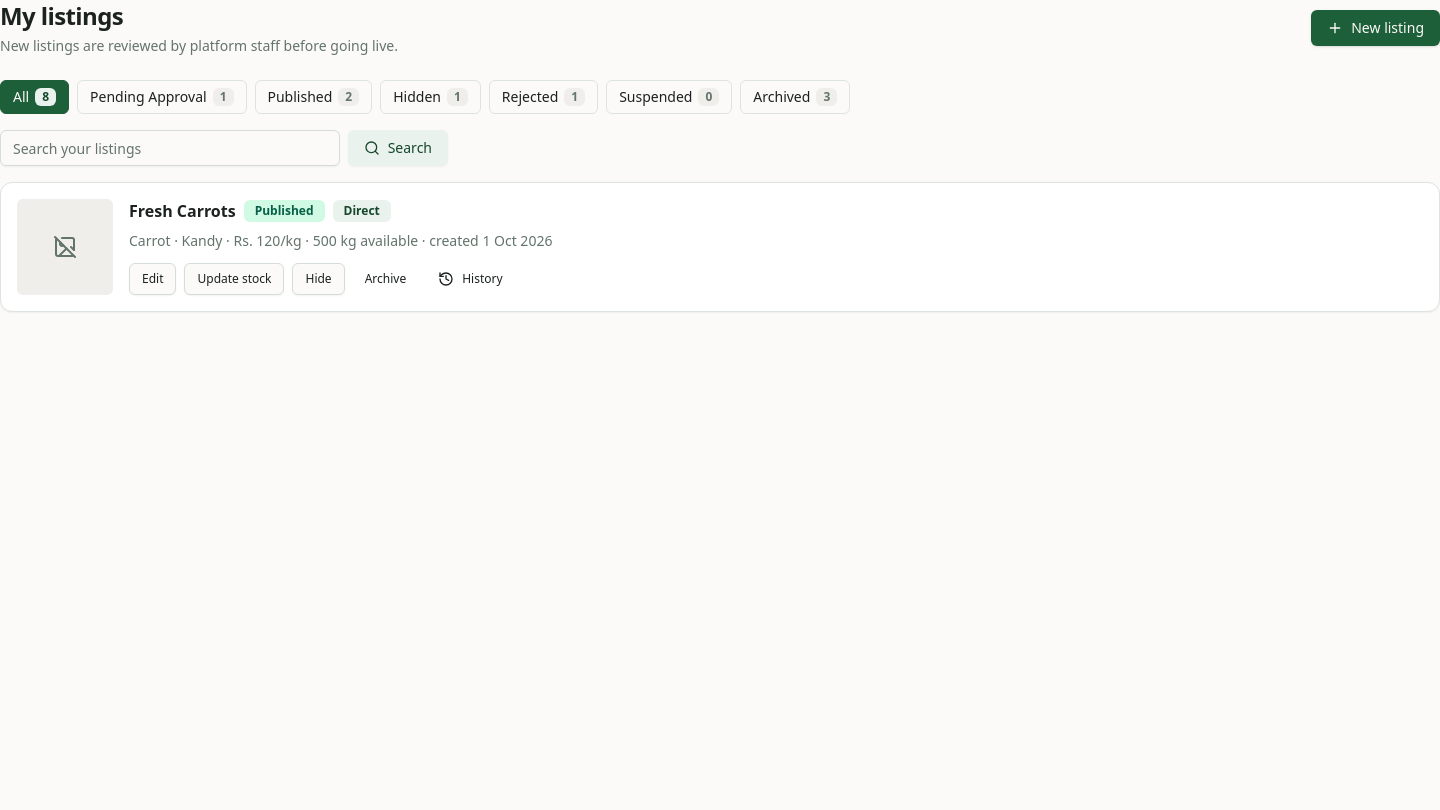
MyListingsView: actions › opens the history dialog
The image size is (1440, 810).
Click the button "History". click: (470, 279)
box: [426, 263, 515, 295]
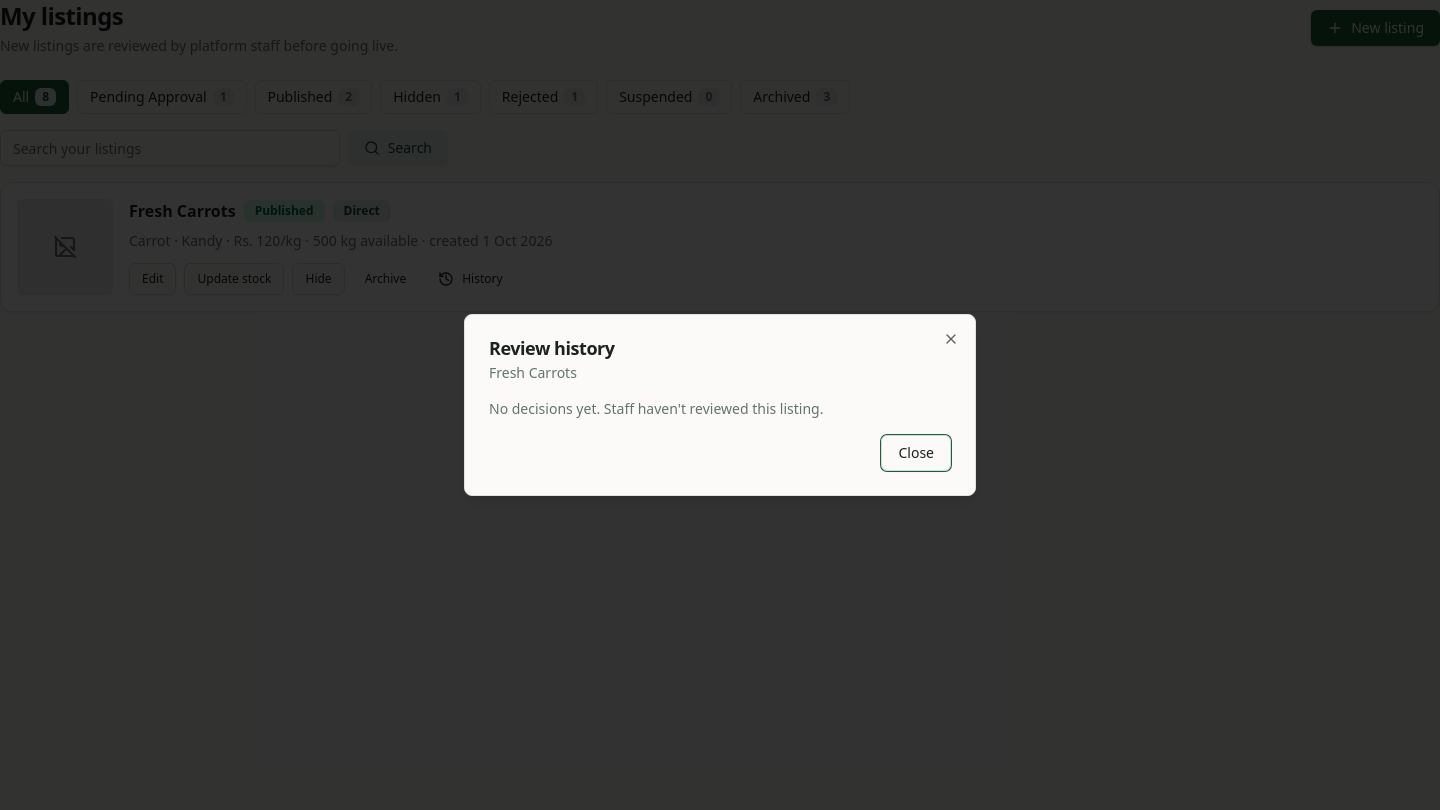
Check: the dialog shows "Review history", box [489, 336, 615, 360]
